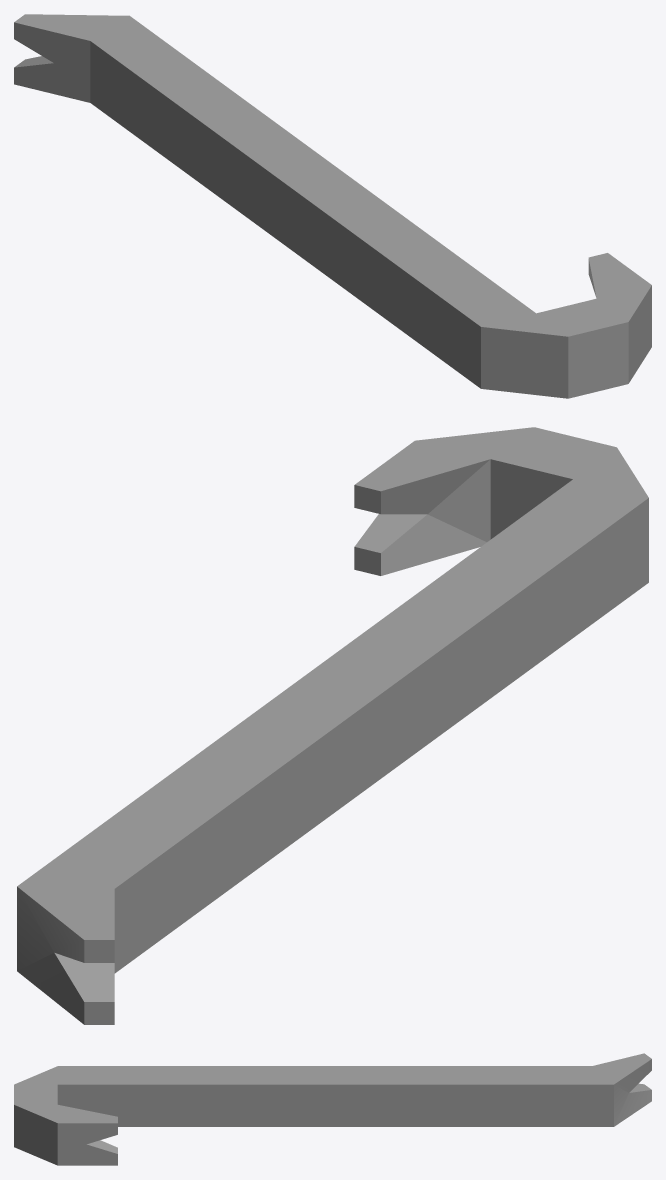
The model's file is Crowbar_01.fbx.
The picture shows the model from 3 angles, top to bottom: view 1: azimuth 30°, elevation 25°; view 2: azimuth 150°, elevation 25°; view 3: azimuth 270°, elevation 25°; orthographic projection. The views are drawn at different scales.
Visible parts, largest first — view 1: CrowBar_01; view 2: CrowBar_01; view 3: CrowBar_01.
Boxes of the visible parts, x1,y1,x2,y2 form: CrowBar_01: (14,14,651,398); CrowBar_01: (17,427,648,1024); CrowBar_01: (14,1053,651,1165).
Size of the model in its own units: 33.59 by 9.51 by 130.
